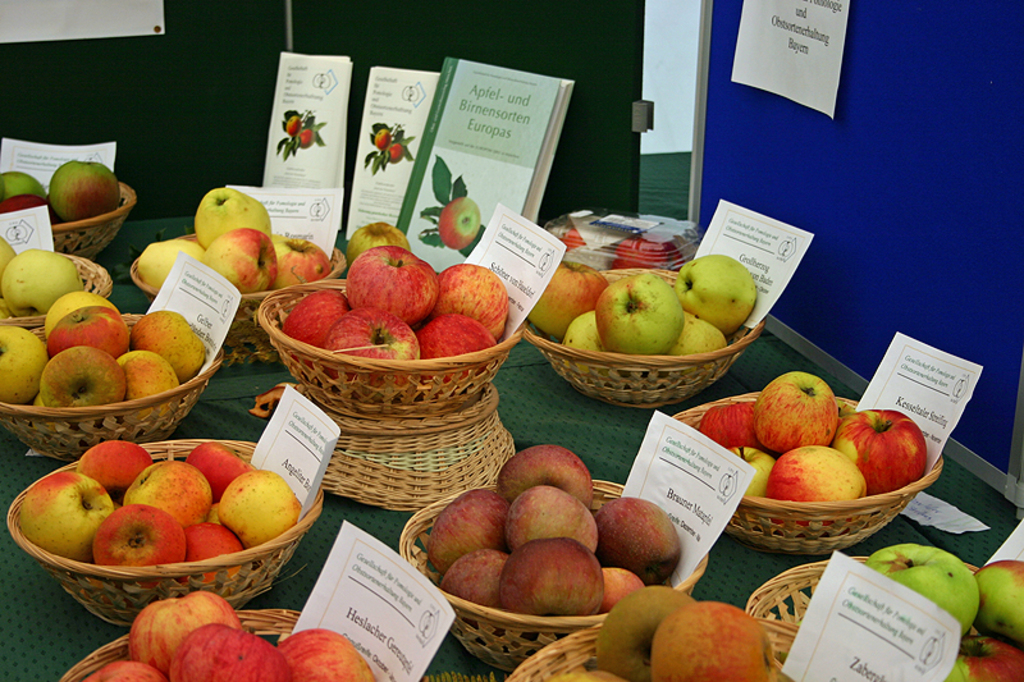Apple: (427, 444, 679, 612), (17, 440, 305, 583), (695, 371, 928, 532), (0, 290, 203, 404), (865, 542, 981, 633), (650, 598, 775, 680), (597, 583, 698, 680), (124, 591, 243, 673), (321, 303, 422, 386), (501, 536, 604, 615), (167, 616, 291, 680), (345, 248, 441, 327), (593, 271, 684, 354), (527, 258, 608, 344), (674, 253, 760, 330), (844, 418, 934, 487), (414, 312, 504, 381), (199, 225, 281, 295), (0, 245, 80, 314), (431, 262, 510, 331), (281, 287, 345, 372), (273, 630, 381, 680), (190, 185, 271, 246), (970, 557, 1022, 644), (47, 158, 124, 216), (942, 626, 1022, 680), (669, 304, 728, 363), (270, 234, 334, 287), (136, 239, 199, 290), (343, 220, 410, 266), (437, 195, 481, 249), (560, 309, 604, 354), (84, 660, 165, 680), (0, 172, 51, 200), (1, 195, 55, 216), (549, 666, 620, 680), (0, 232, 17, 276), (373, 126, 392, 149), (282, 115, 302, 134), (387, 144, 405, 165), (295, 125, 313, 145)
